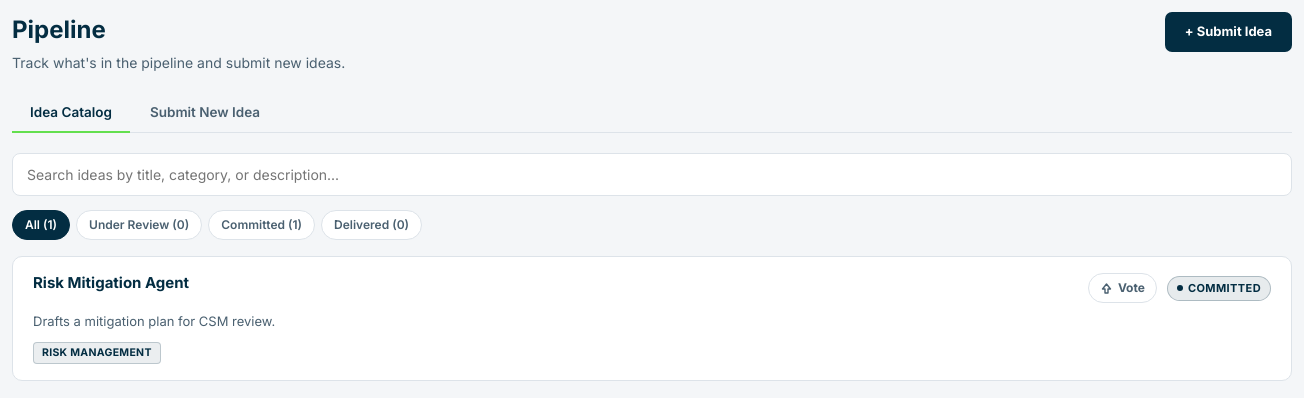
Test: PageIdeaPortal › increments a vote once and persists vote state
Click the button titled "Upvote this idea".
click(1122, 288)  # box [1088, 273, 1157, 303]
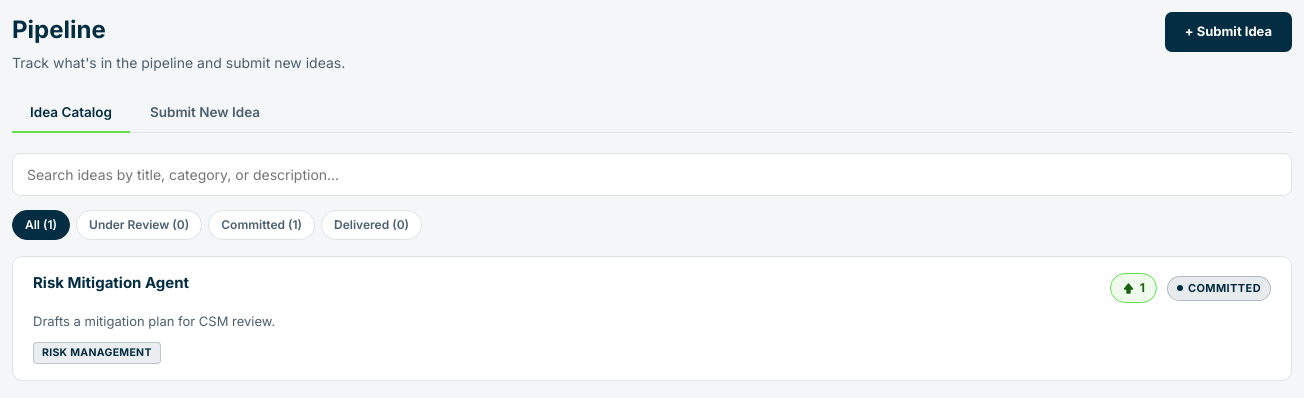
Expected: the button titled "You've already upvoted this" is disabled, [1110, 273, 1157, 303]
